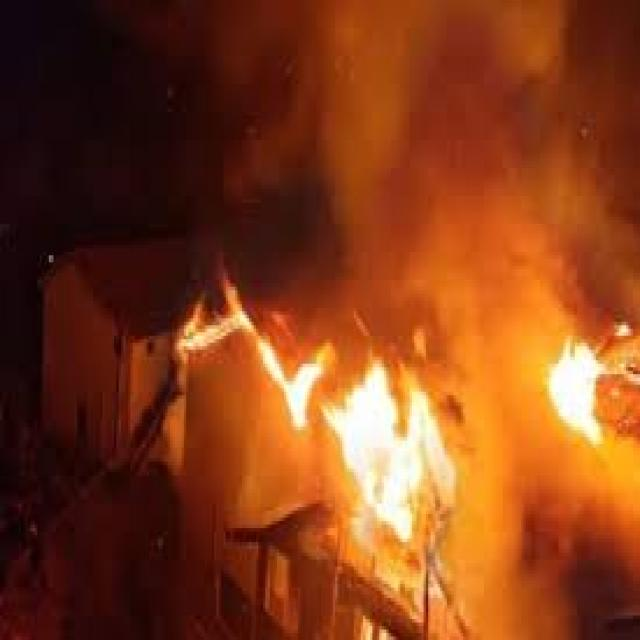fire: (319, 350, 463, 538), (170, 272, 319, 440), (533, 328, 612, 448)
smoke: (151, 4, 631, 342), (442, 335, 640, 640)
